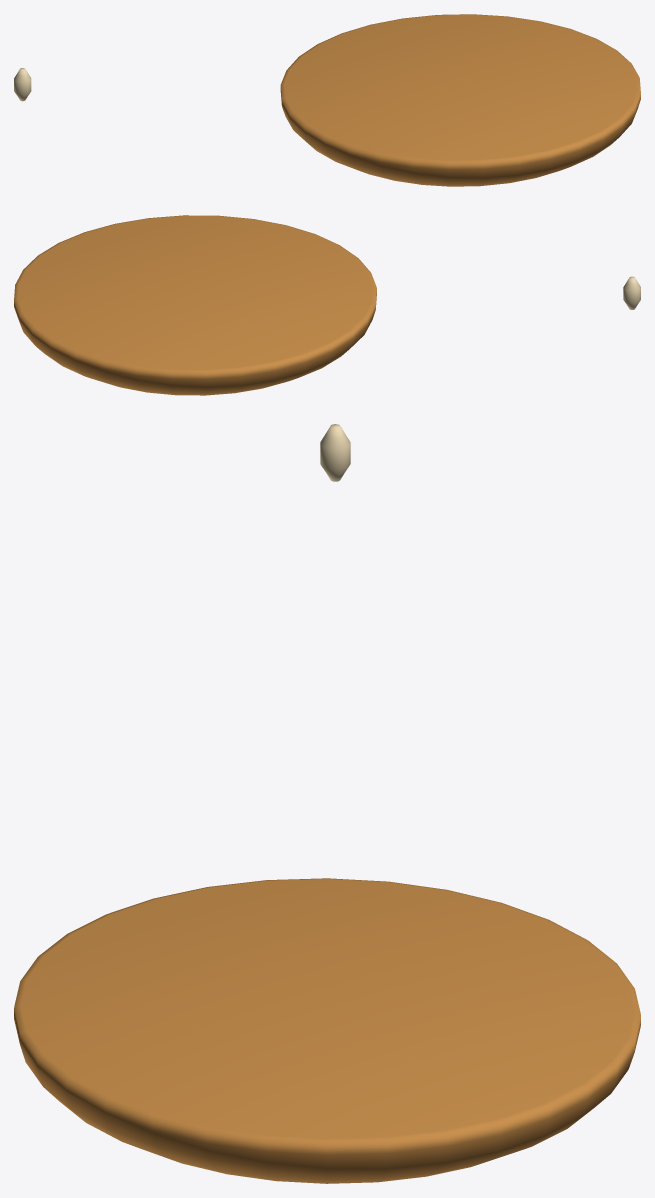
Rendered from panabajo.glb.
3 views of the same model, one above another, from view 1: azimuth 30°, elevation 25°; view 2: azimuth 150°, elevation 25°; view 3: azimuth 270°, elevation 25° (orthographic). The views are drawn at different scales.
Visible parts, largest first — view 1: PAN_INF, SEMILLA; view 2: PAN_INF, SEMILLA; view 3: PAN_INF, SEMILLA.
Boxes of the visible parts, box(x1,y1,x2,y2) form: PAN_INF: box(280, 14, 640, 186); SEMILLA: box(14, 68, 31, 101); PAN_INF: box(14, 215, 376, 395); SEMILLA: box(623, 276, 640, 309); PAN_INF: box(14, 878, 640, 1183); SEMILLA: box(320, 424, 350, 481).
Size of the model in its own units: 11.85 by 3.46 by 6.18.
